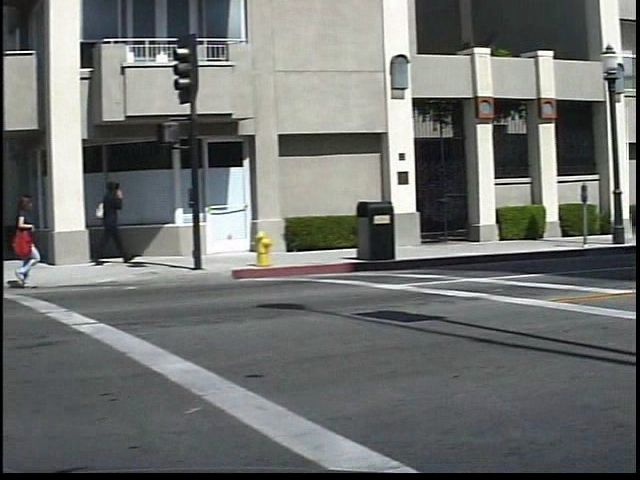person: (7, 185, 57, 300), (101, 174, 148, 265)
